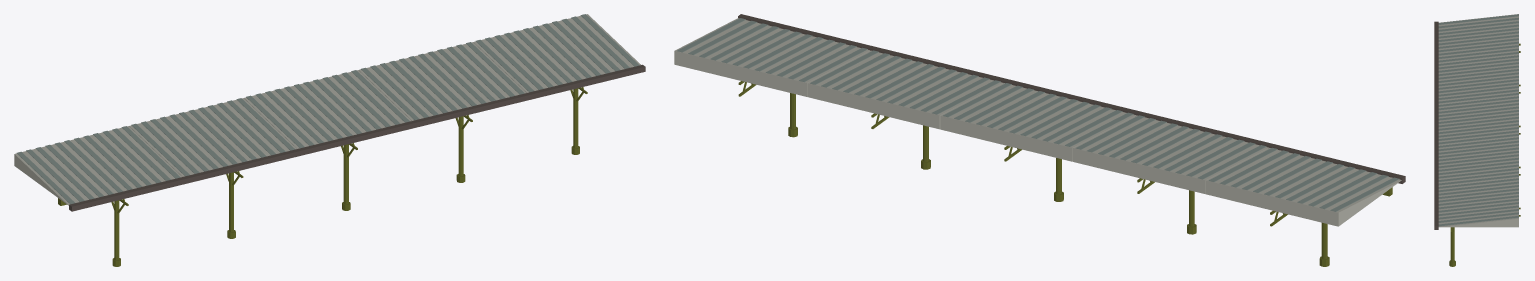
File: SM_marquesina_LOD0.fbx
The picture shows the model from 3 angles, left to right: view 1: azimuth 30°, elevation 25°; view 2: azimuth 150°, elevation 25°; view 3: azimuth 270°, elevation 25°; orthographic projection. The views are drawn at different scales.
Parts seen in each view (by area): view 1: SM_bloques.marquesina_v0_LOD0; view 2: SM_bloques.marquesina_v0_LOD0; view 3: SM_bloques.marquesina_v0_LOD0.
Part boxes in pixels (<box>): SM_bloques.marquesina_v0_LOD0: <box>14,14,645,266</box>; SM_bloques.marquesina_v0_LOD0: <box>674,14,1405,266</box>; SM_bloques.marquesina_v0_LOD0: <box>1434,14,1520,266</box>.
Size of the model in its own units: 30 by 4.63 by 5.32.
